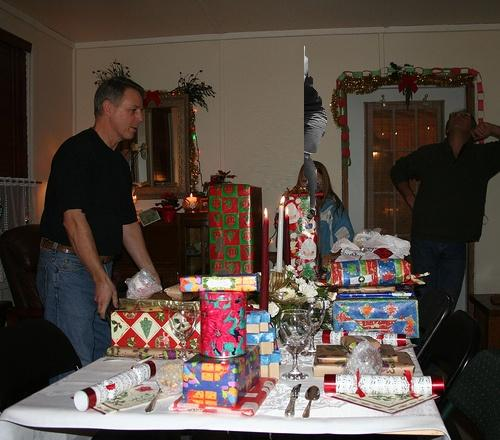tampered: (305, 47, 327, 219)
